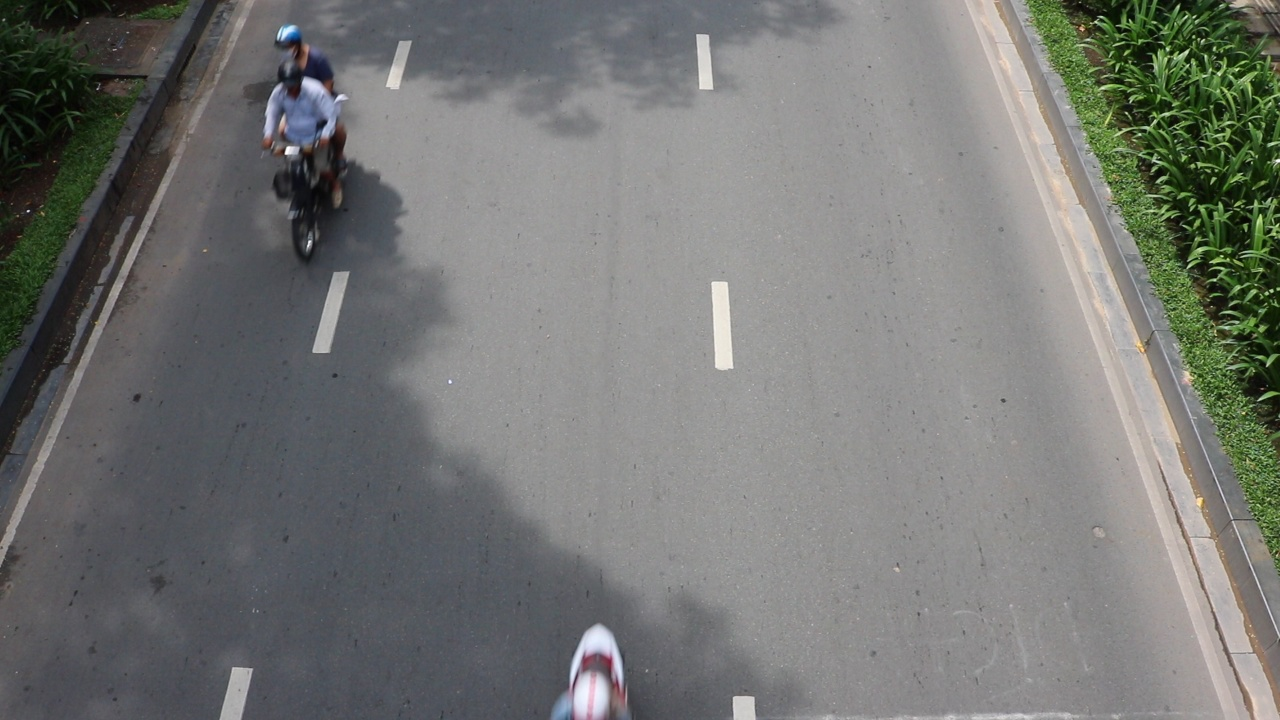motorcycle: (265, 131, 346, 262)
